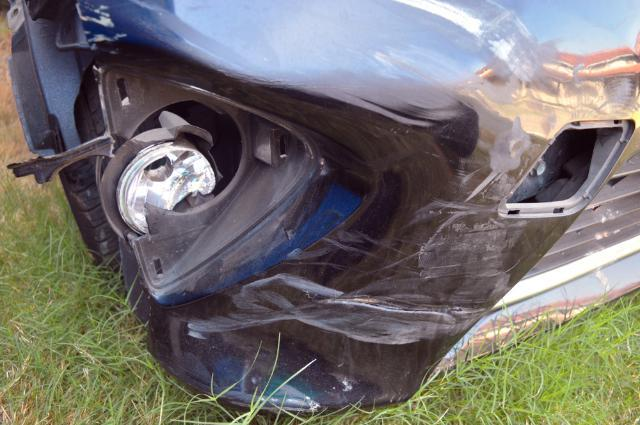dent: (182, 318, 457, 404)
no part: (107, 64, 356, 301), (503, 122, 634, 214)
scratch: (234, 0, 640, 344)
